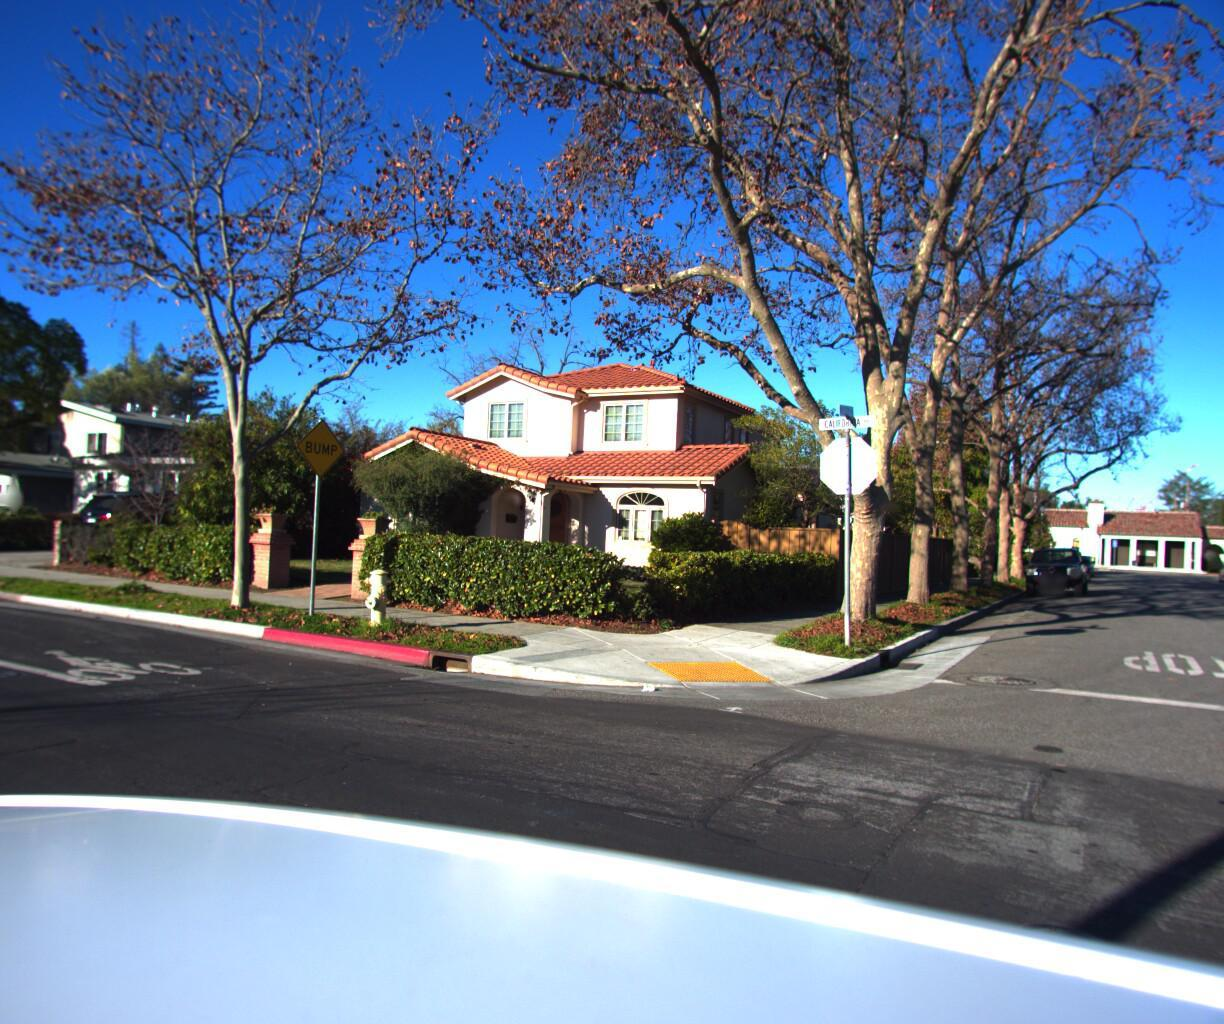car: (56, 491, 253, 567), (1019, 546, 1088, 605), (1212, 561, 1224, 588)
